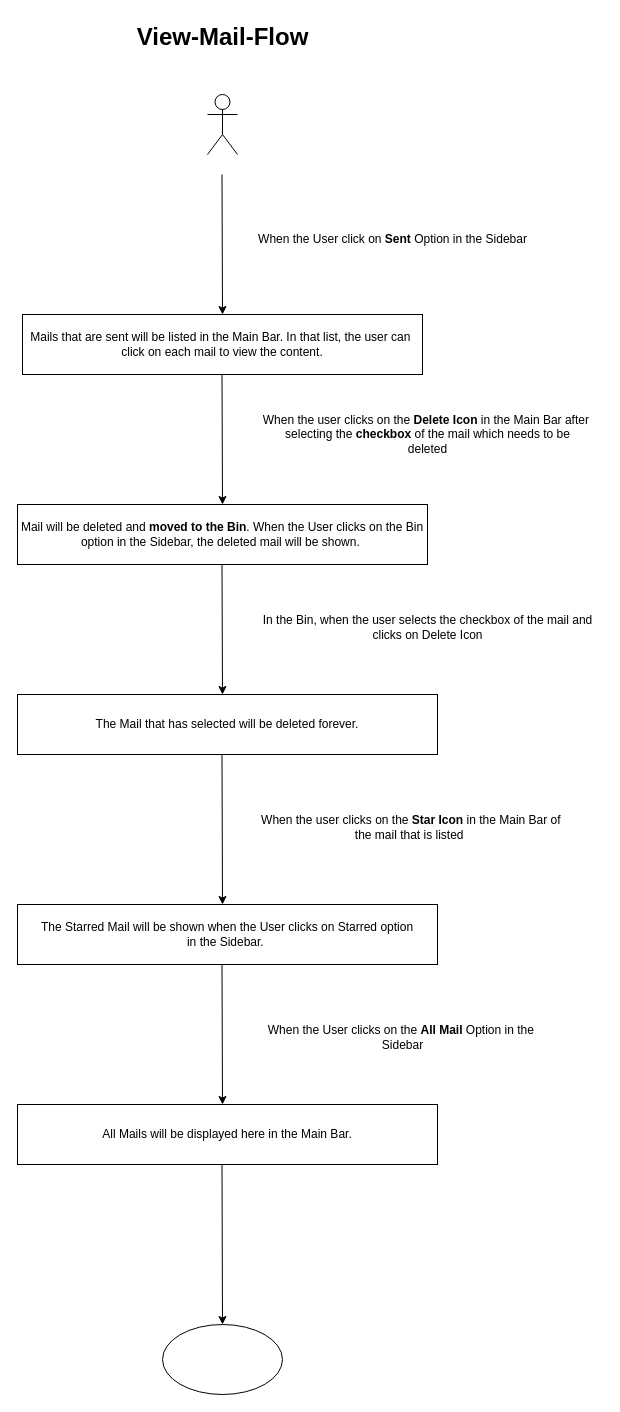
This 620x1412 diagram has some shape labels left out. Each missing label, with the centre of its shape:
Exit: pixel 222 1359
User: pixel 222 124
